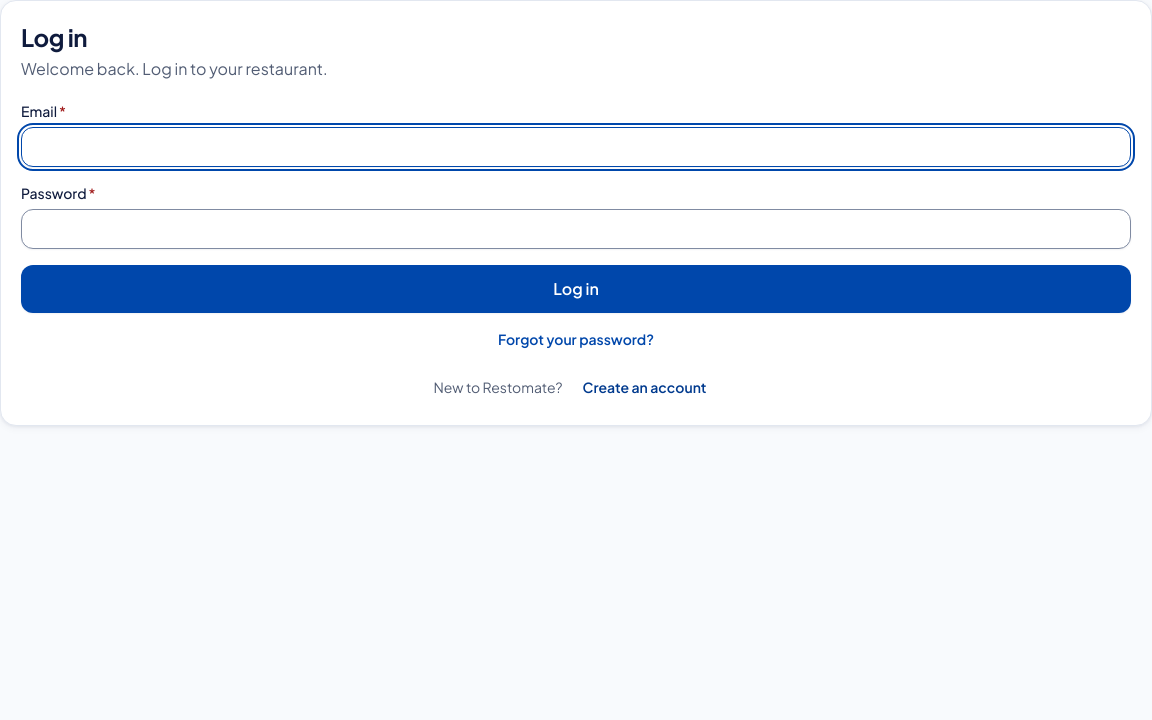
Test case: login › keeps what the user typed when the server refuses, and shows translated text
The width and height of the screenshot is (1152, 720).
In the field labelled "Email*": (576, 147) [21,127,1131,167], type "Sari@Example.com"
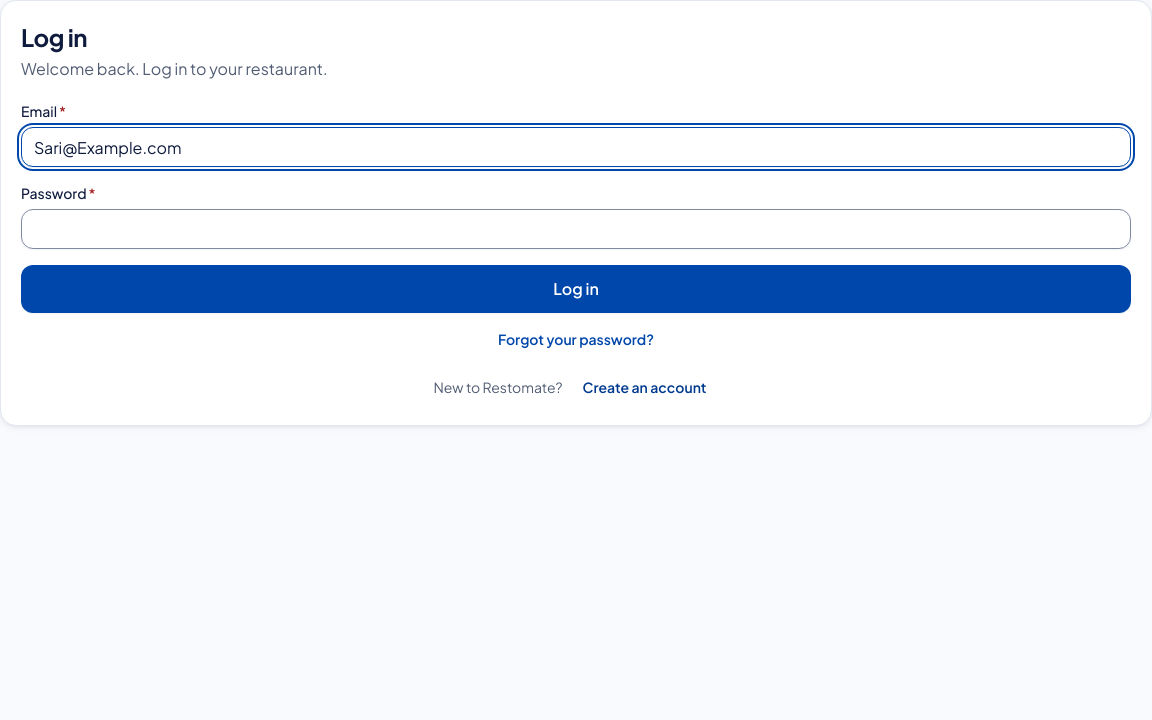
In the password field labelled "Password*": (576, 229) [21,209,1131,249], type "secret-pass"
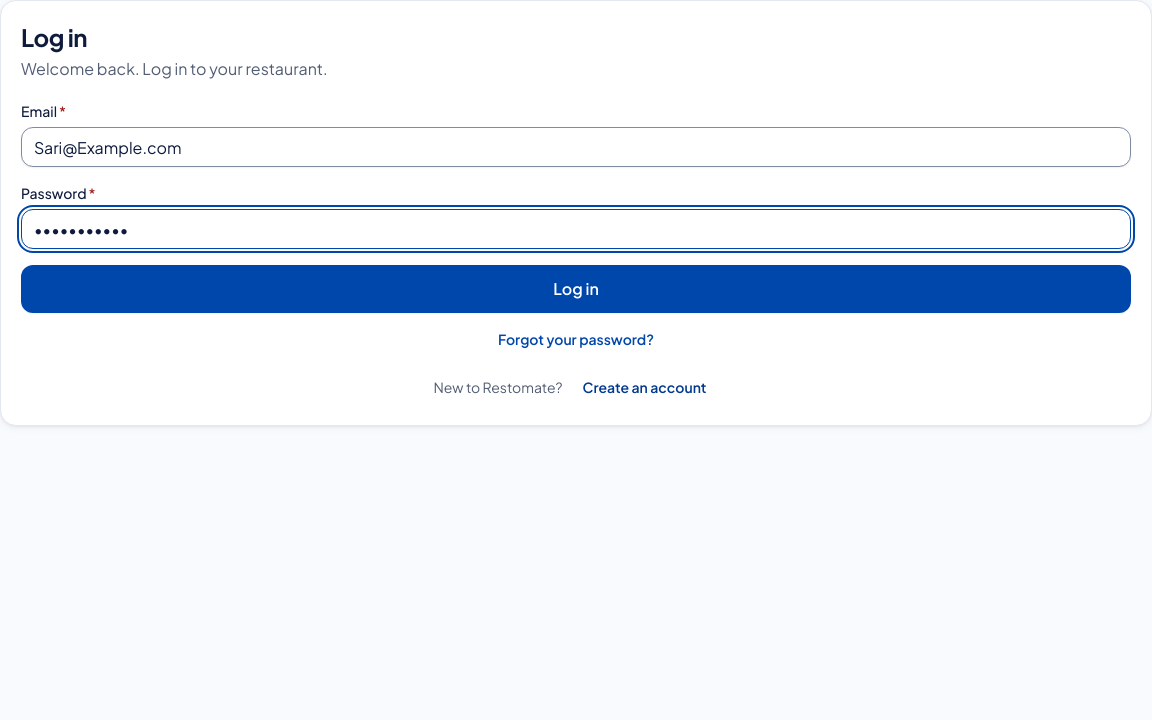
Click the button "Log in": click(576, 289) [21,265,1131,313]
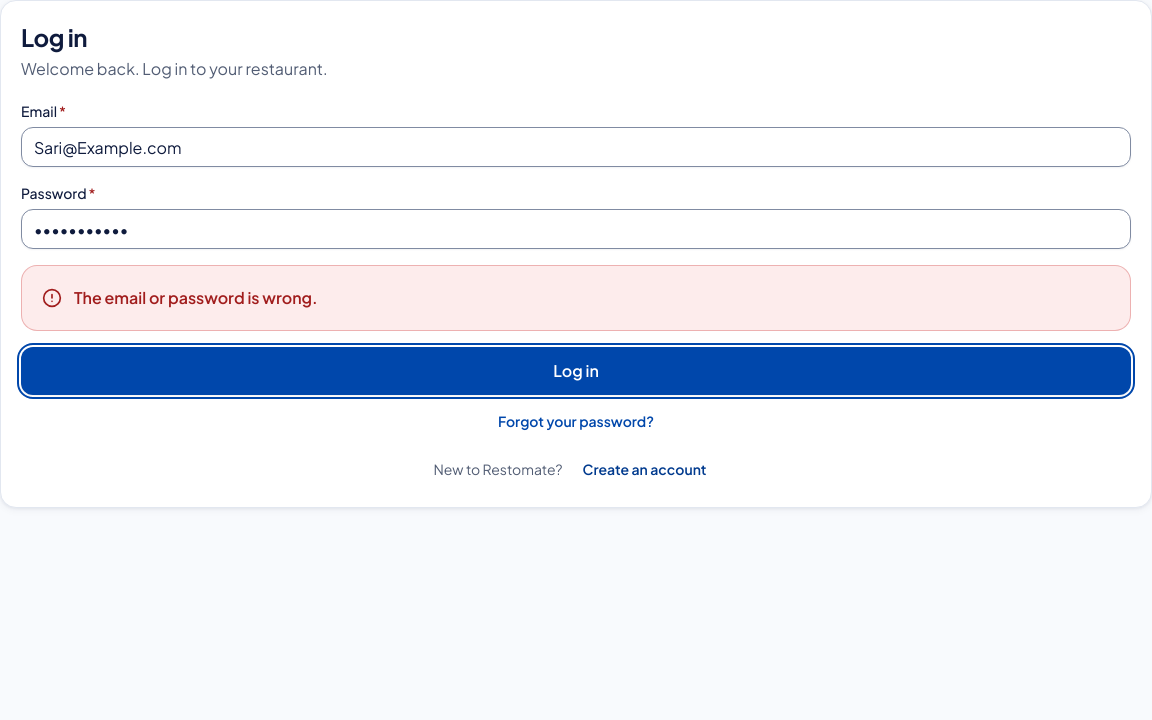
Result: the text "The email or password is wrong." is shown at [74,286,318,310]
